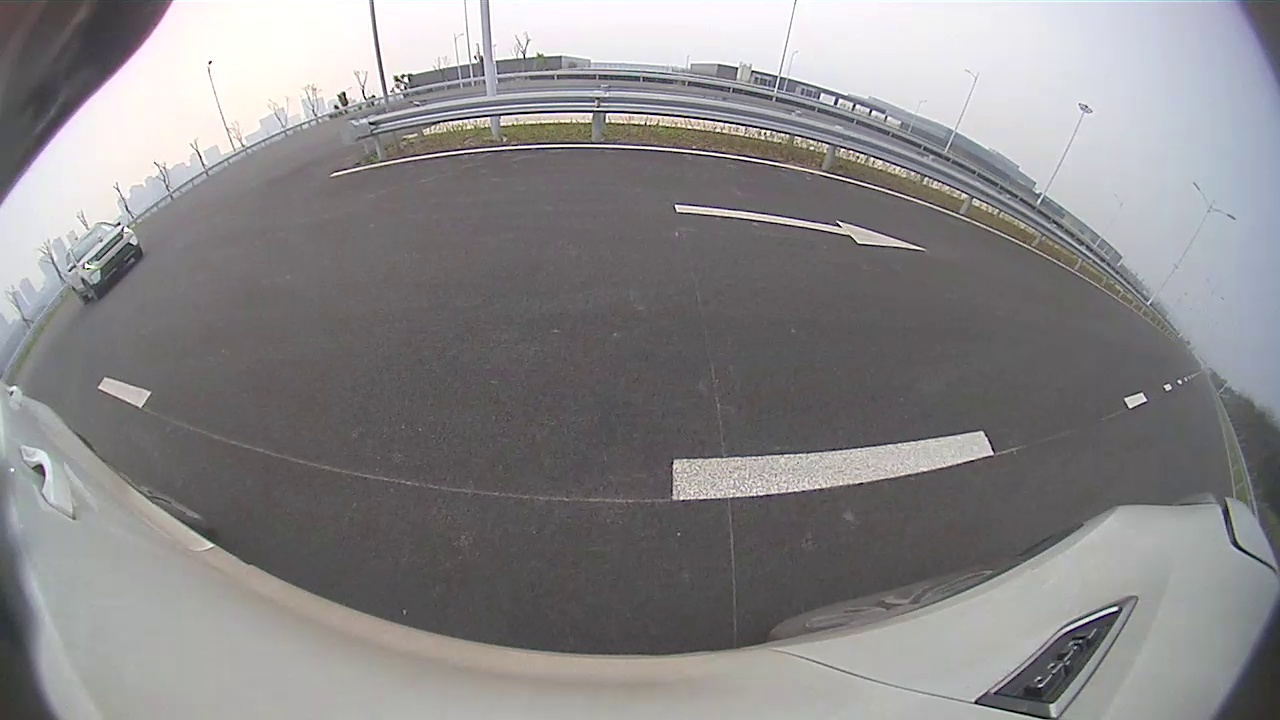car: (64, 222, 144, 305)
